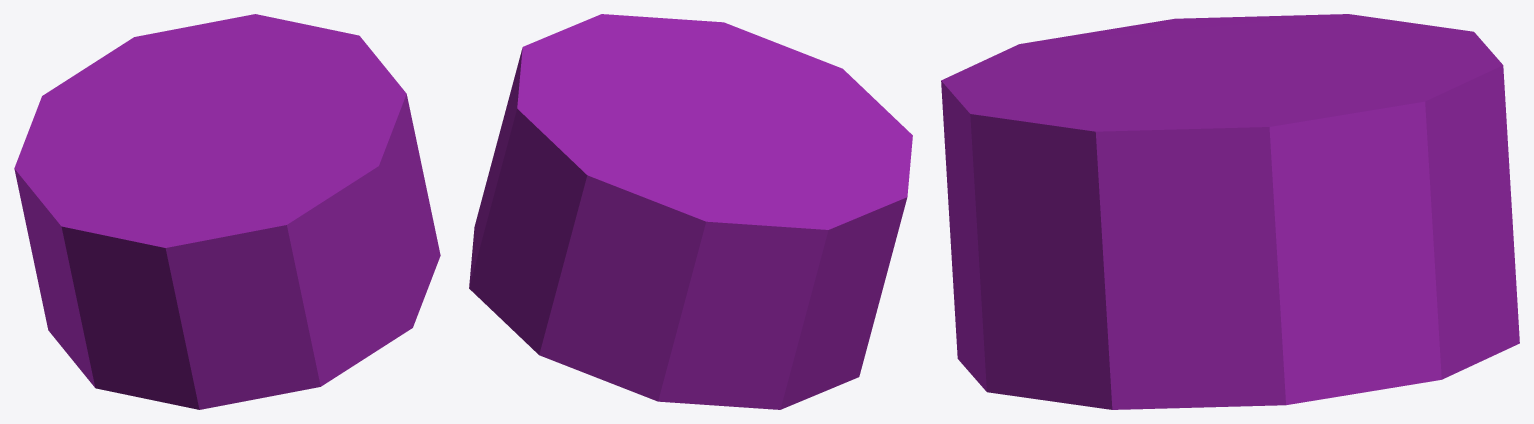
File: group1176076155_lev3.glb
3 views of the same model, side by side, from view 1: azimuth 30°, elevation 25°; view 2: azimuth 150°, elevation 25°; view 3: azimuth 270°, elevation 25° (orthographic). The views are drawn at different scales.
Visible parts, largest first — view 1: group1176076155_lev3; view 2: group1176076155_lev3; view 3: group1176076155_lev3.
Part boxes in pixels (left/top/right/bottom): group1176076155_lev3: left=14, top=14, right=440, bottom=409; group1176076155_lev3: left=469, top=14, right=912, bottom=409; group1176076155_lev3: left=941, top=14, right=1519, bottom=409.
Size of the model in its own units: 0.5892 by 0.3969 by 0.5587.
